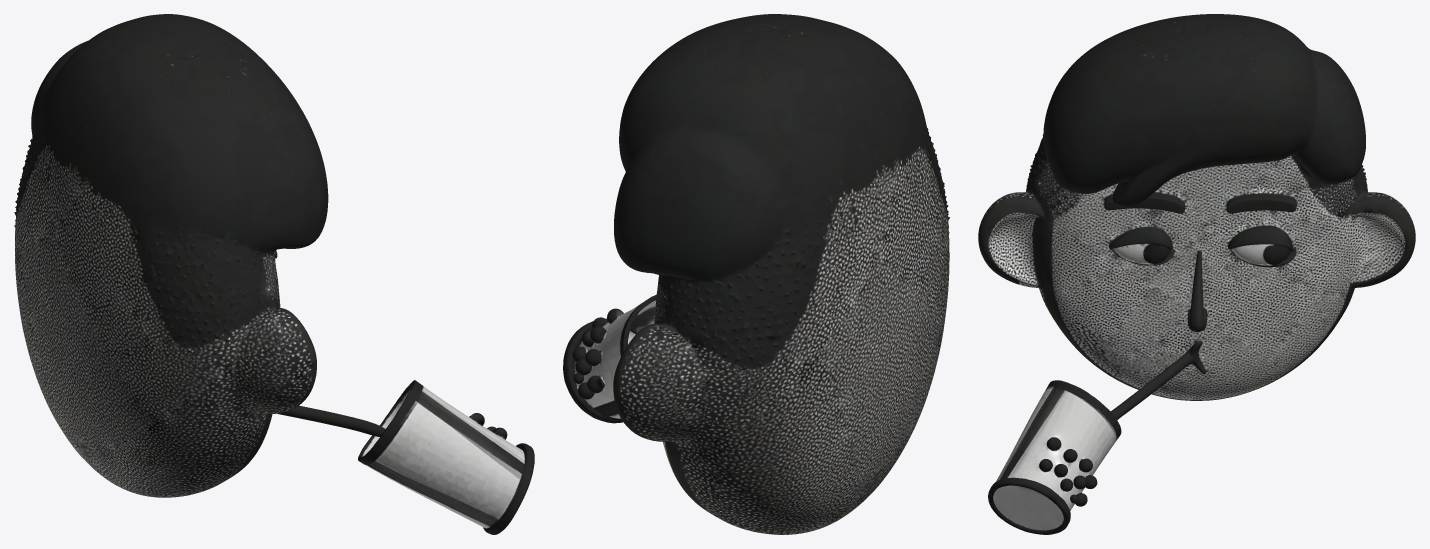
File: CaiKo3D_opt.glb
3 renders of one model, left to right at view 1: azimuth 30°, elevation 25°; view 2: azimuth 150°, elevation 25°; view 3: azimuth 270°, elevation 25°, orthographic. The views are drawn at different scales.
Visible parts, largest first — view 1: tripo_node_25edb815-5ad9-48a5-b1b0-43bec8abdf82; view 2: tripo_node_25edb815-5ad9-48a5-b1b0-43bec8abdf82; view 3: tripo_node_25edb815-5ad9-48a5-b1b0-43bec8abdf82.
Boxes of the visible parts, x1,y1,x2,y2 form: tripo_node_25edb815-5ad9-48a5-b1b0-43bec8abdf82: [14, 14, 534, 534]; tripo_node_25edb815-5ad9-48a5-b1b0-43bec8abdf82: [563, 14, 949, 534]; tripo_node_25edb815-5ad9-48a5-b1b0-43bec8abdf82: [978, 14, 1415, 534].
Size of the model in its own units: 0.8404 by 0.9999 by 0.9563.
Materials: 1 (1 with a texture image).
